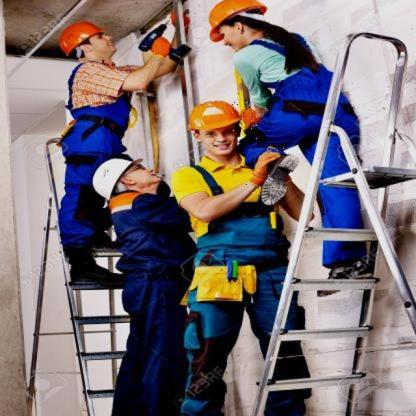bota: (316, 247, 371, 298), (65, 246, 125, 288), (261, 153, 298, 206)
capacete: (186, 102, 246, 158), (207, 0, 270, 50), (92, 158, 161, 201), (58, 20, 118, 61)
